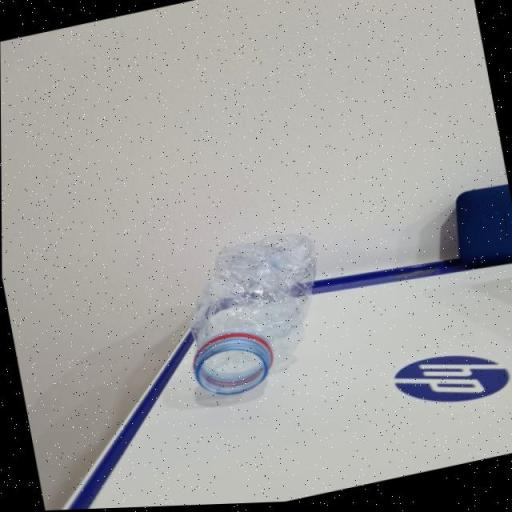plastic: (167, 226, 344, 404)
